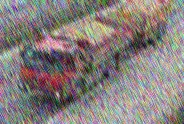truck: (17, 0, 172, 102)
